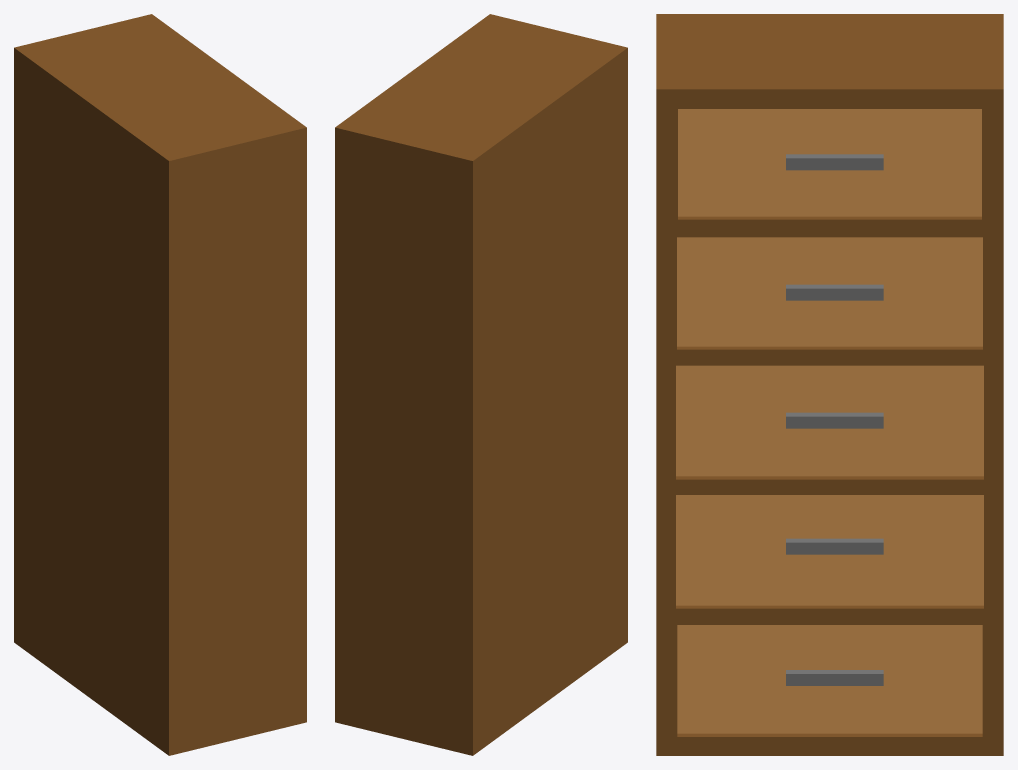
File: largedrawer6.fbx
The picture shows the model from 3 angles, left to right: view 1: azimuth 30°, elevation 25°; view 2: azimuth 150°, elevation 25°; view 3: azimuth 270°, elevation 25°; orthographic projection. The views are drawn at different scales.
Parts seen in each view (by area): view 1: Cube.017; view 2: Cube.017; view 3: Cube.017, Cube.019, Cube.020, Cube.021, Cube.022, Cube.018.
Boxes of the visible parts, x1=… form: Cube.017: x1=14, y1=14, x2=306, y2=755; Cube.017: x1=335, y1=14, x2=627, y2=755; Cube.017: x1=656, y1=14, x2=1003, y2=755; Cube.019: x1=786, y1=538, x2=883, y2=554; Cube.020: x1=786, y1=412, x2=883, y2=428; Cube.021: x1=786, y1=284, x2=883, y2=300; Cube.022: x1=786, y1=154, x2=883, y2=170; Cube.018: x1=786, y1=670, x2=883, y2=685.
Size of the model in its own units: 369 by 1505 by 711.
